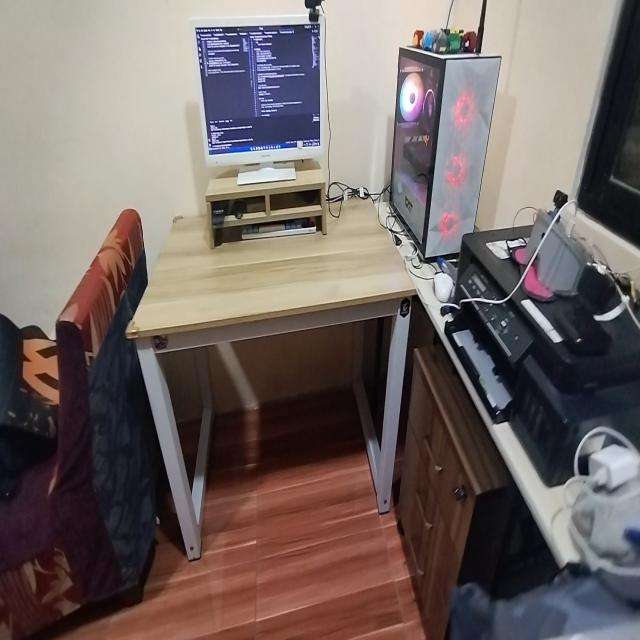table: (137, 187, 414, 549)
